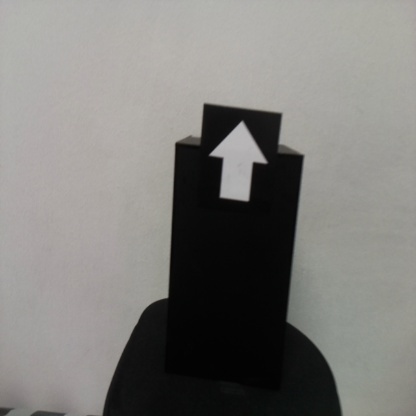id_1: (203, 108, 277, 220)
